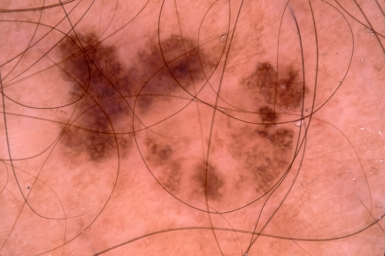seborrheic keratosis: (38, 24, 315, 200)
